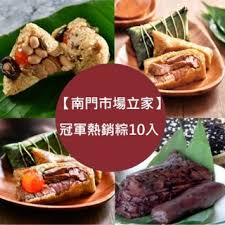zongzi: (2, 18, 109, 95), (115, 149, 224, 223), (127, 6, 188, 68), (14, 159, 95, 203), (147, 49, 205, 87)
